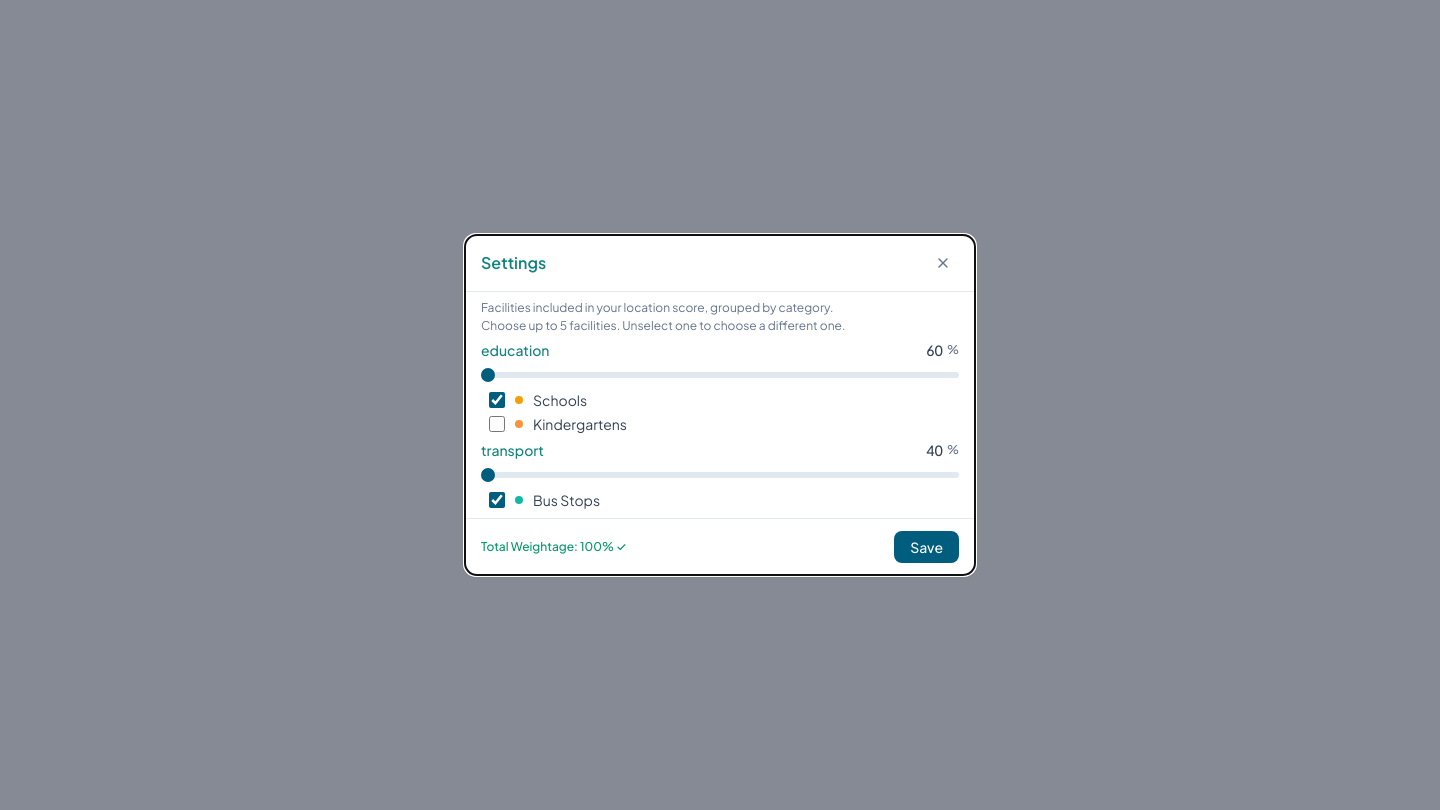
Test: SettingsModal › Weight sliders › re-enables Save once the weights are dragged back to sum to 100
Set the slider named "education" to "80" at (859,375), box [481,372,959,378]
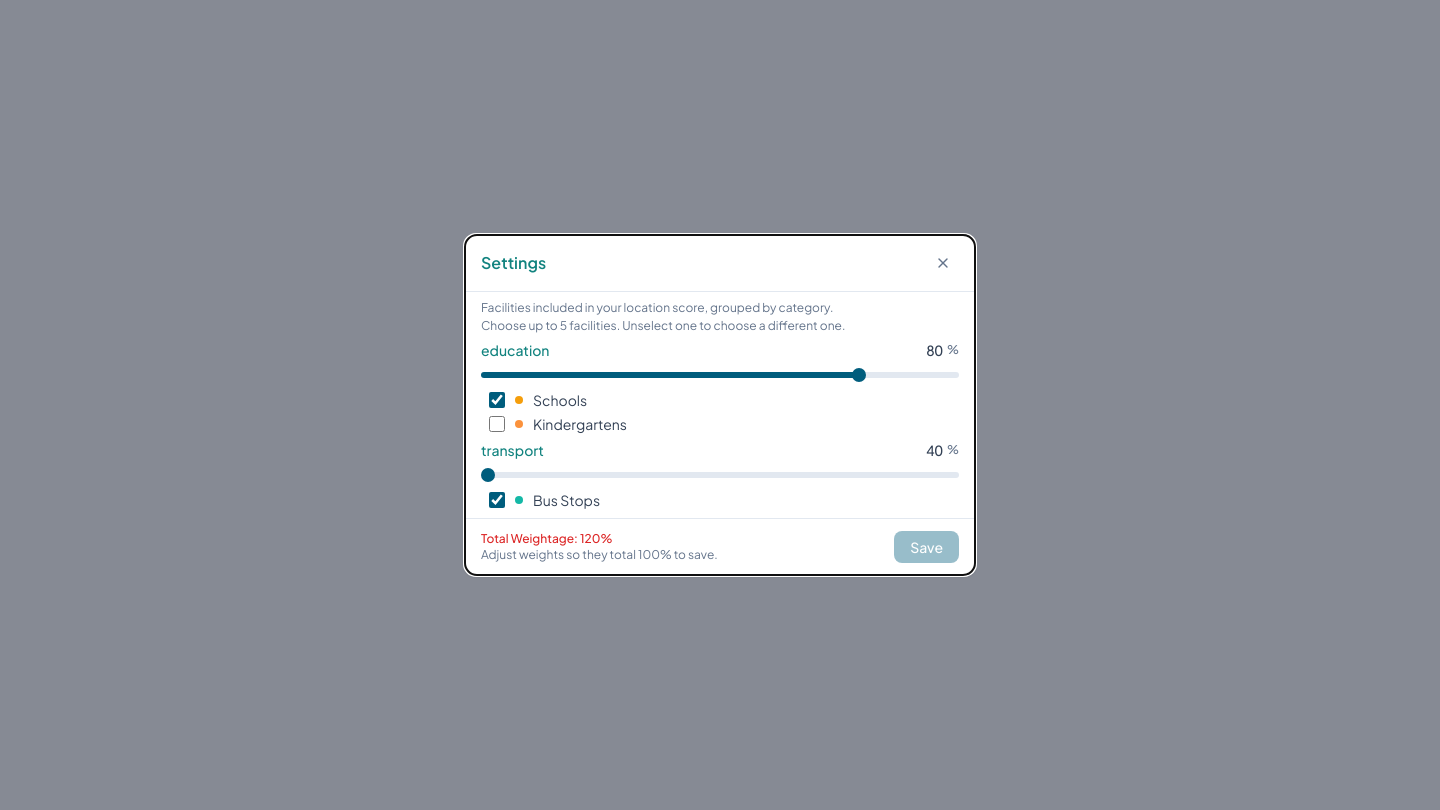
Expected: the button "Save" is disabled, [894,531,959,563]
Set the slider named "transport" to "20" at (581,475), box [481,472,959,478]
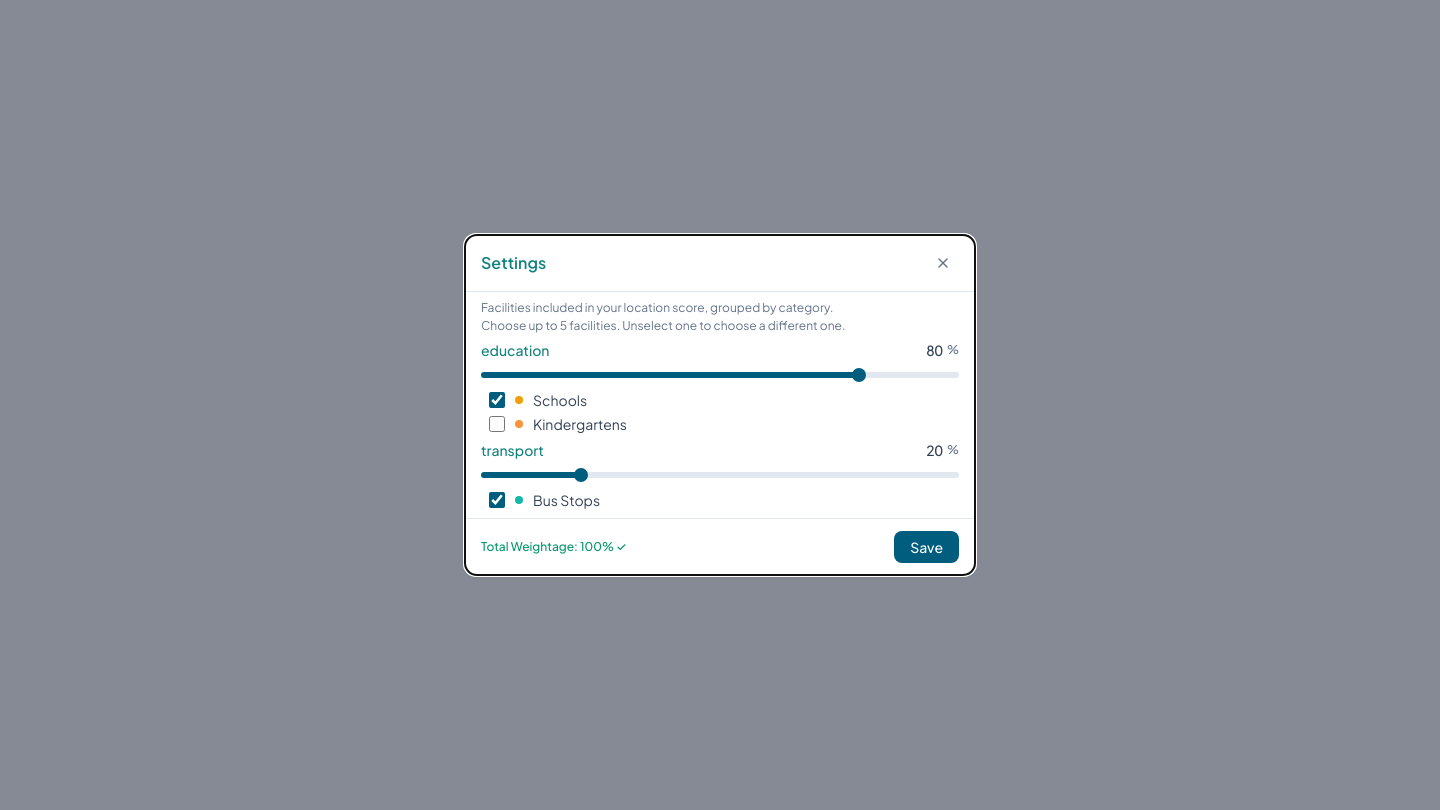
Expected: the button "Save" is enabled, [894,531,959,563]
Expected: the text "Total Weightage: 100% ✓" is shown, [481,539,627,555]
Expected: the text "Adjust weights so they total 100% to save." is gone
